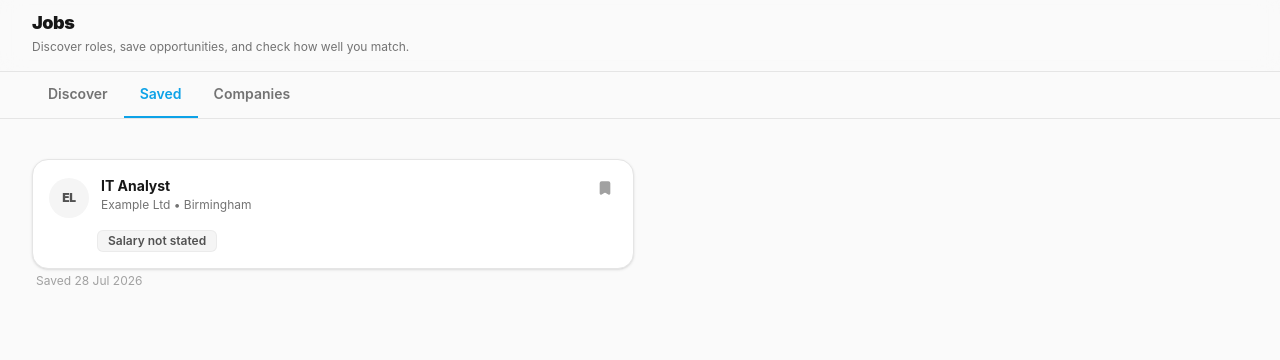
Test: authenticated Job Board API wiring › rolls a Saved-row unsave back when the shared mutation fails
Click the button named "Unsave IT Analyst": click(605, 188) top-left (589, 172), bottom-right (621, 204)
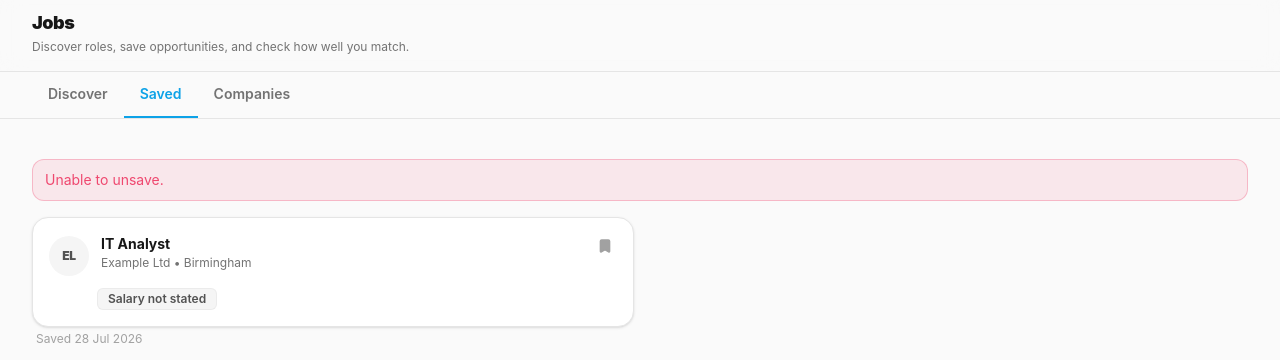
Expected: the button named "Unsave IT Analyst" is shown, top-left (589, 230), bottom-right (621, 262)
Result: the message reads "Unable to unsave." at top-left (45, 171), bottom-right (164, 188)
